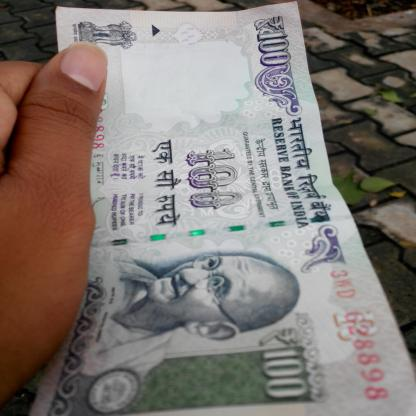Old100Front: (30, 0, 416, 416)
